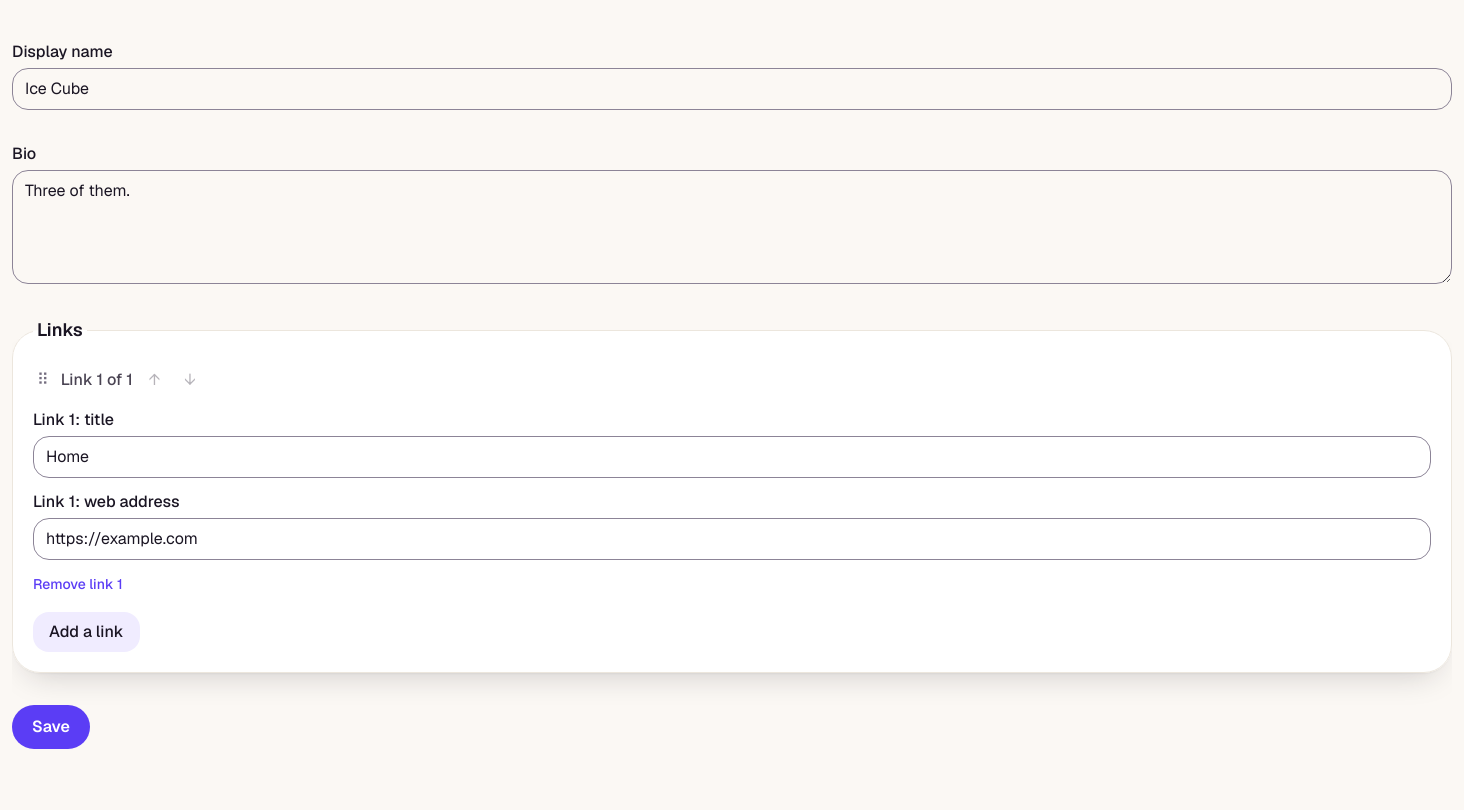
Test: the Profile form, when the save is rejected › says the whole list is too long, attached to the Links group
Click the button "Save" at [51, 727], box x1=12 y1=705 x2=90 y2=749
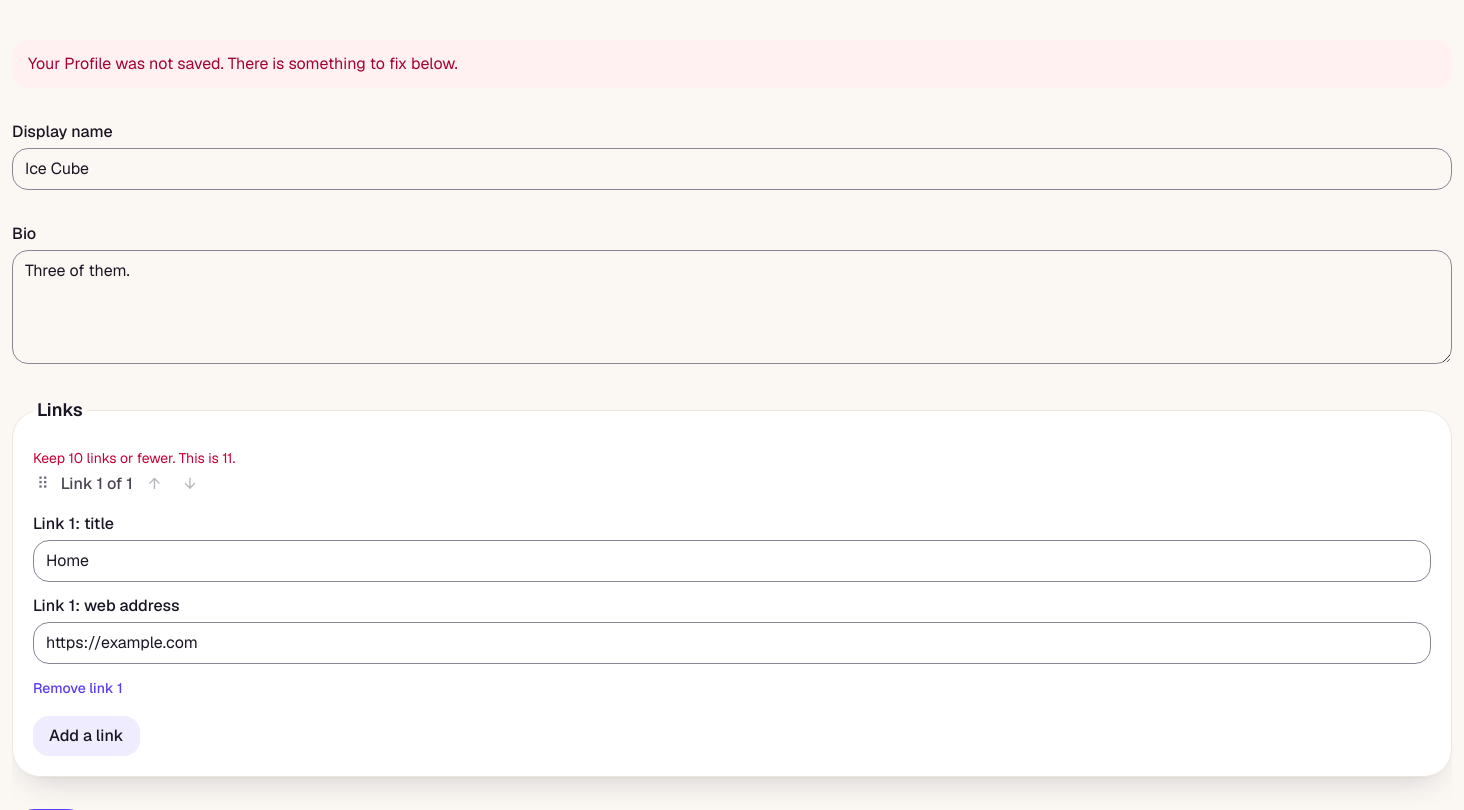
Check: the text "Keep 10 links or fewer. This is 11." is shown, box x1=33 y1=449 x2=235 y2=467
